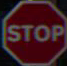Stop: (2, 3, 62, 58)
